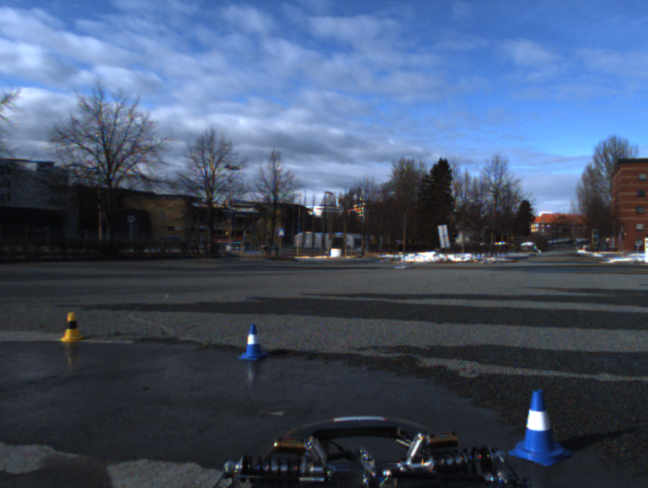cone-small-blue: (508, 390, 572, 466), (237, 325, 270, 361)
cone-small-yellow: (57, 311, 87, 343)
